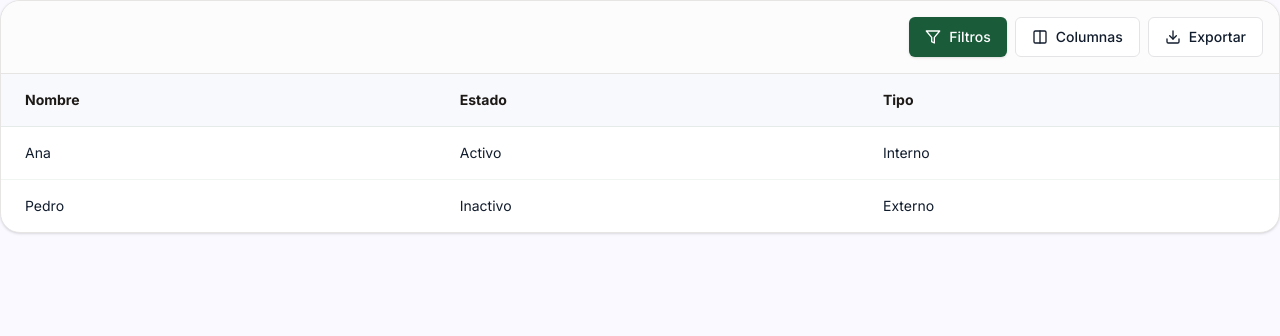
Test: CrudDataTable permite filtrar por columnas desde el botón de filtros
Expected: the text "Ana" is shown, [1,126,436,180]
Expected: the text "Pedro" is shown, [1,180,436,232]
Click the button "Filtros" at (958, 37), box [909,17,1007,57]
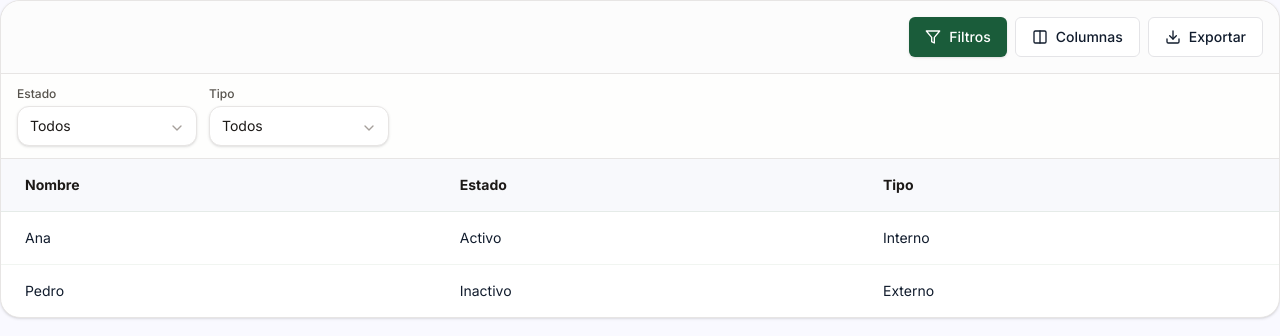
Select "Activo" in the dropdown labelled "Estado" at (107, 126), box [17,106,197,146]
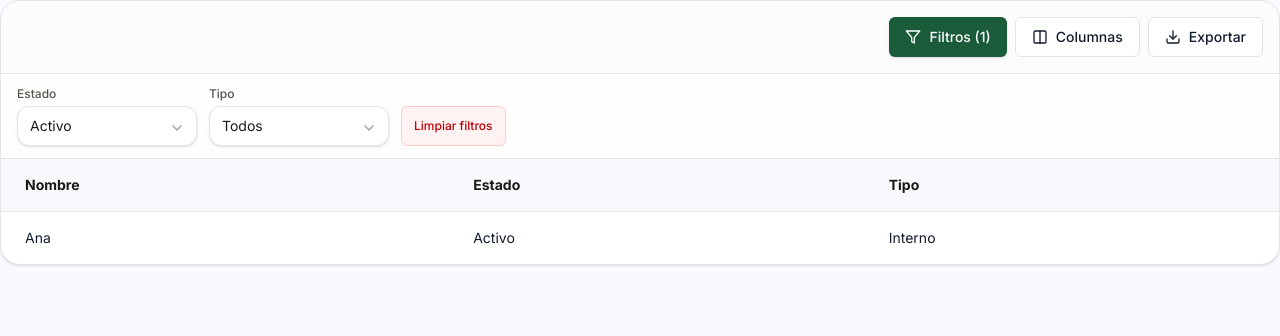
Expected: the text "Ana" is shown, [1,212,449,264]
Result: the text "Pedro" is gone
Select "Interno" in the dropdown labelled "Tipo" at (299, 126), box [209,106,389,146]
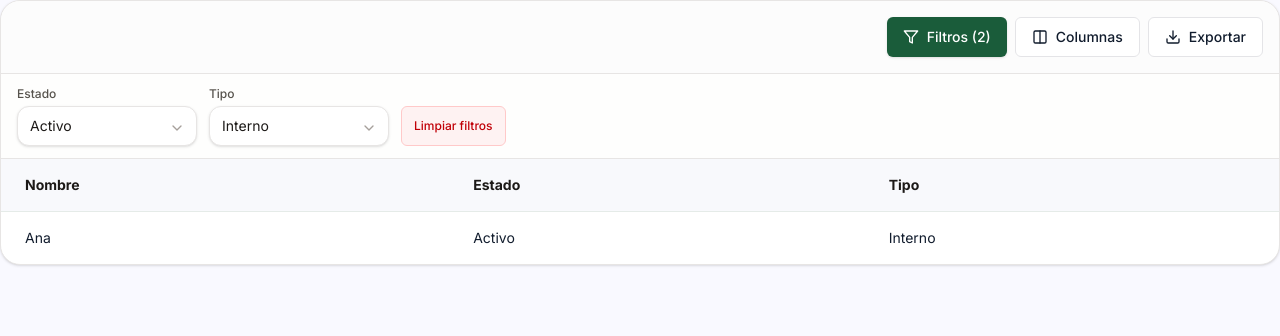
Expected: the text "Ana" is shown, [1,212,449,264]
Expected: the text "Pedro" is not shown
Click the button "Limpiar filtros" at (453, 126), box [401,106,506,146]
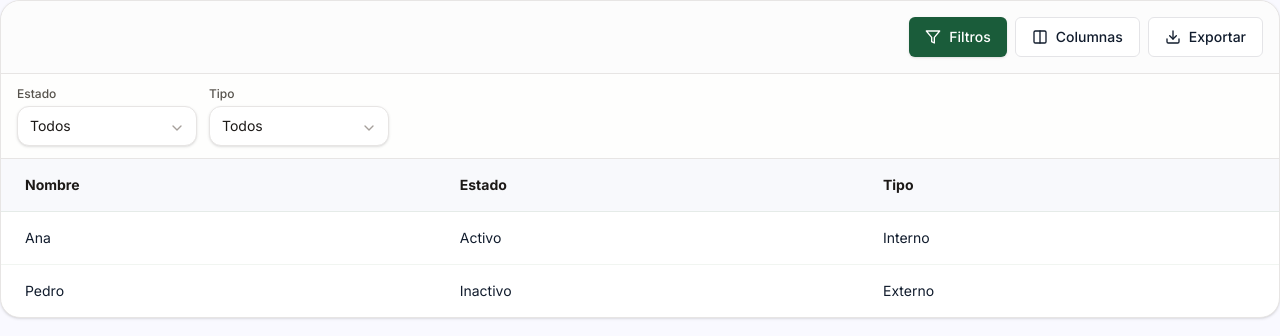
Expected: the text "Ana" is shown, [1,212,436,264]
Result: the text "Pedro" is shown at [1,264,436,317]
